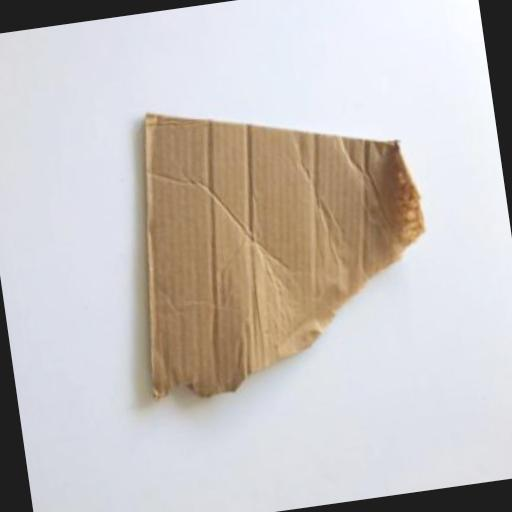cardboard: (115, 75, 446, 408)
